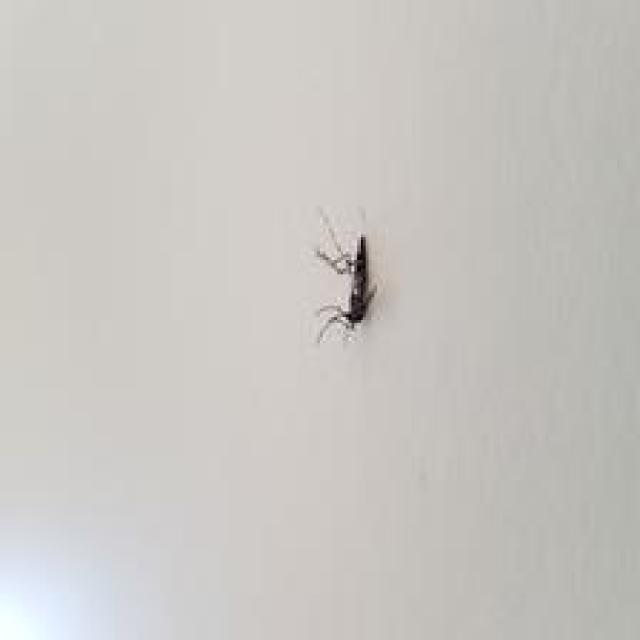Aedes albopictus: (313, 207, 378, 344)
